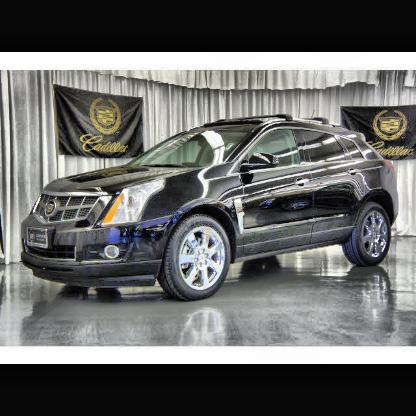Cadillac SRX SUV 2012: (22, 113, 400, 306)
